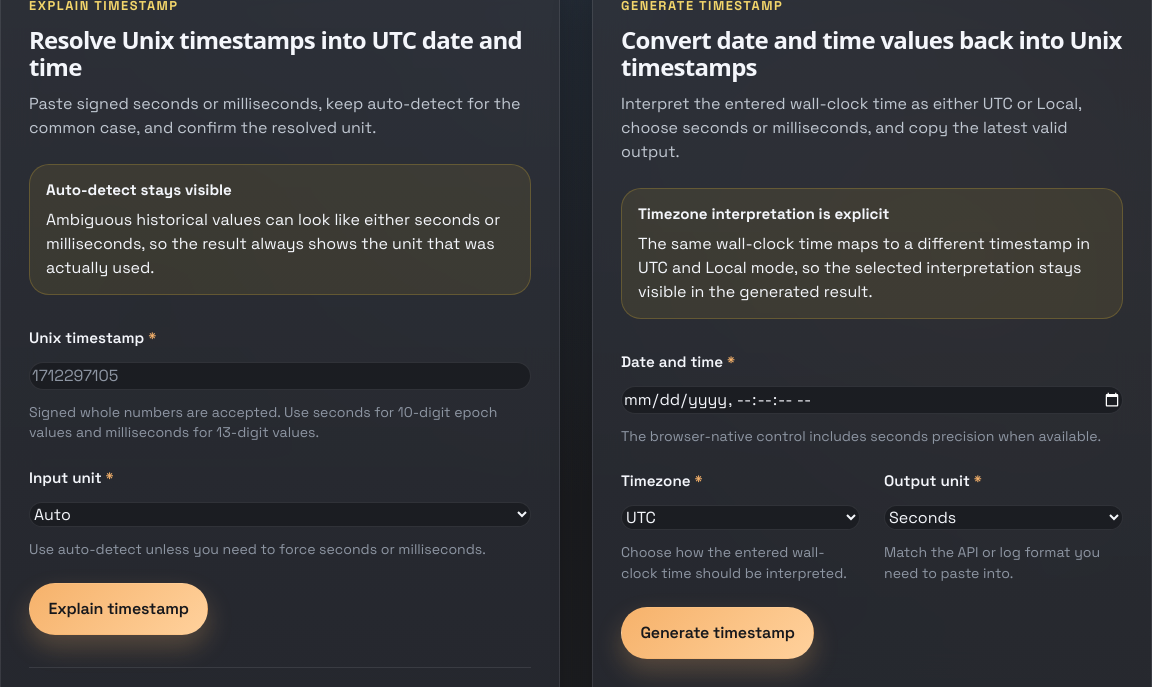
Test: Timestamp tool flow › generates a UTC seconds timestamp and copies the latest valid result
The image size is (1152, 687).
Type "2024-04-05T10:05" into the field labelled "Date and time *" at (872, 400), box [621,386,1123,414]
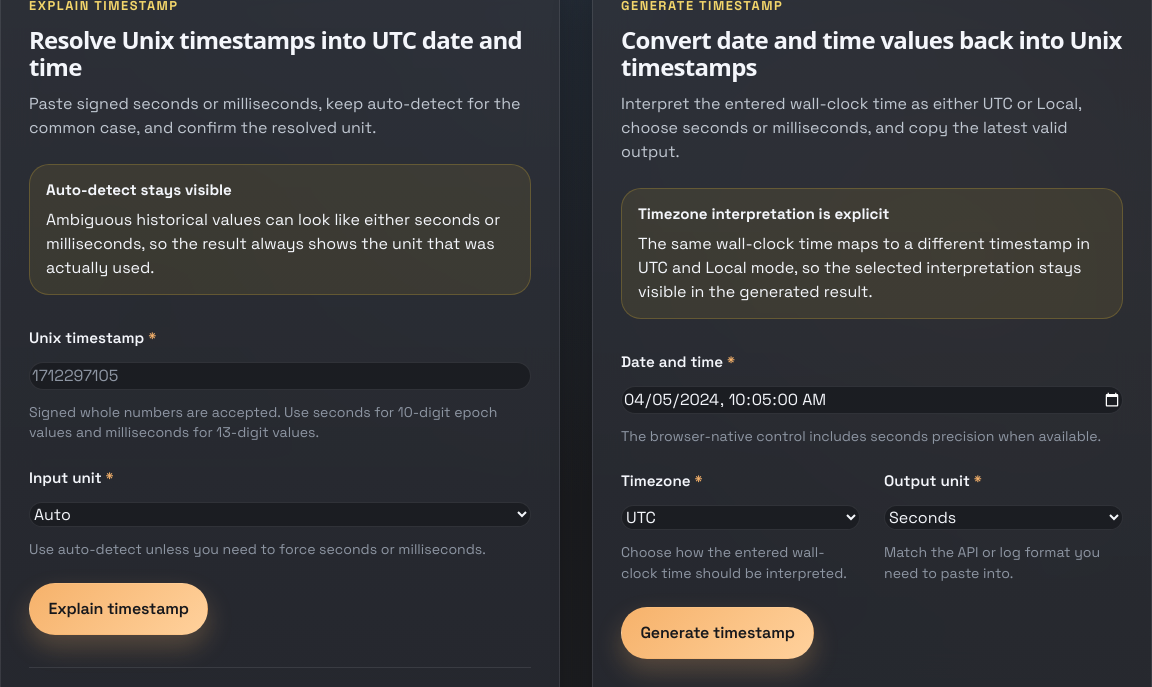
Select "UTC" in the dropdown labelled "Timezone *" at (740, 518), box [621,505,860,530]
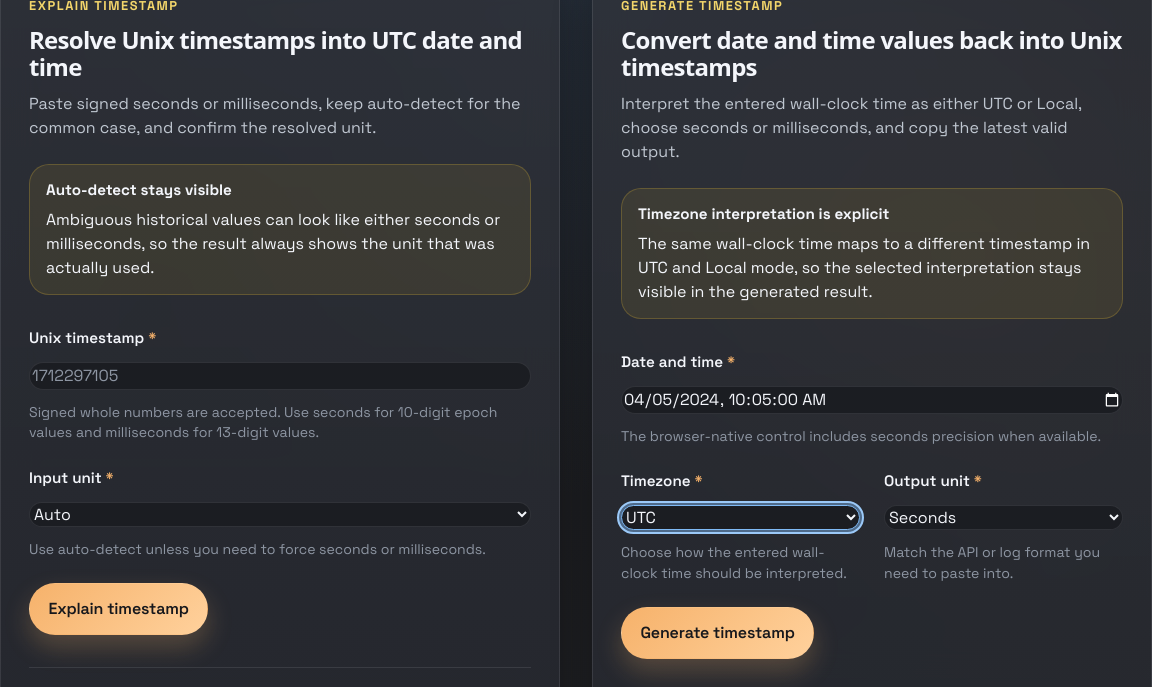
Select "Seconds" in the dropdown labelled "Output unit *" at (1004, 518), box [884,505,1123,530]
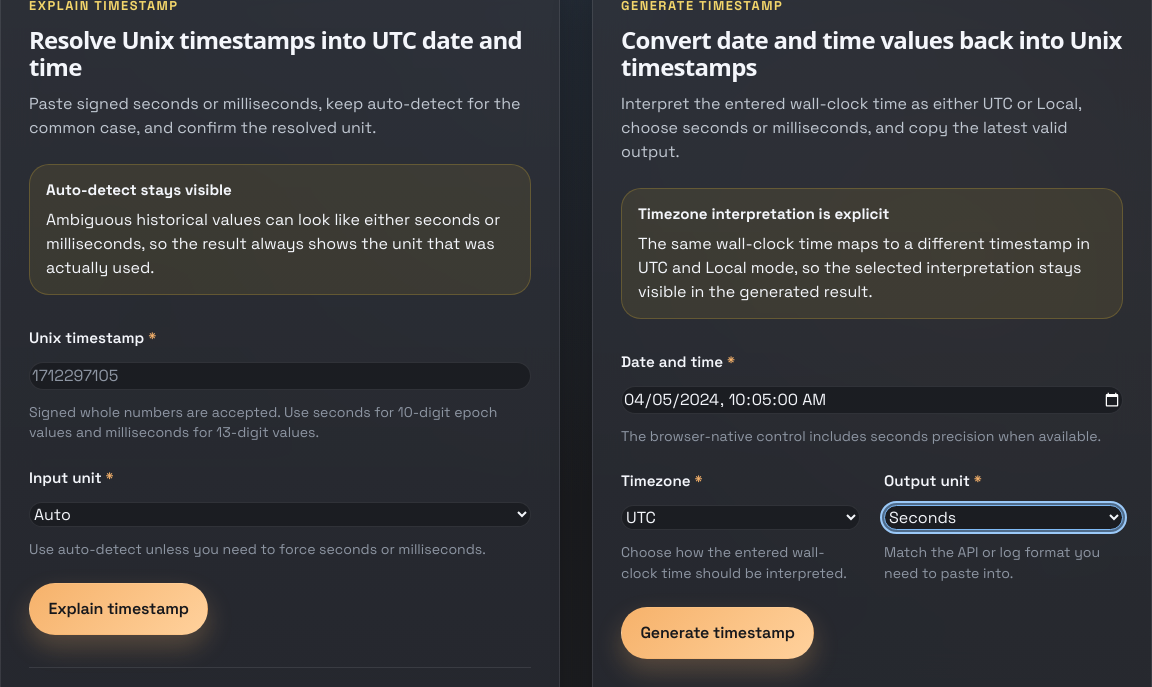
Click the button "Generate timestamp" at (718, 633), box [621,607,814,659]
(page scrolled)
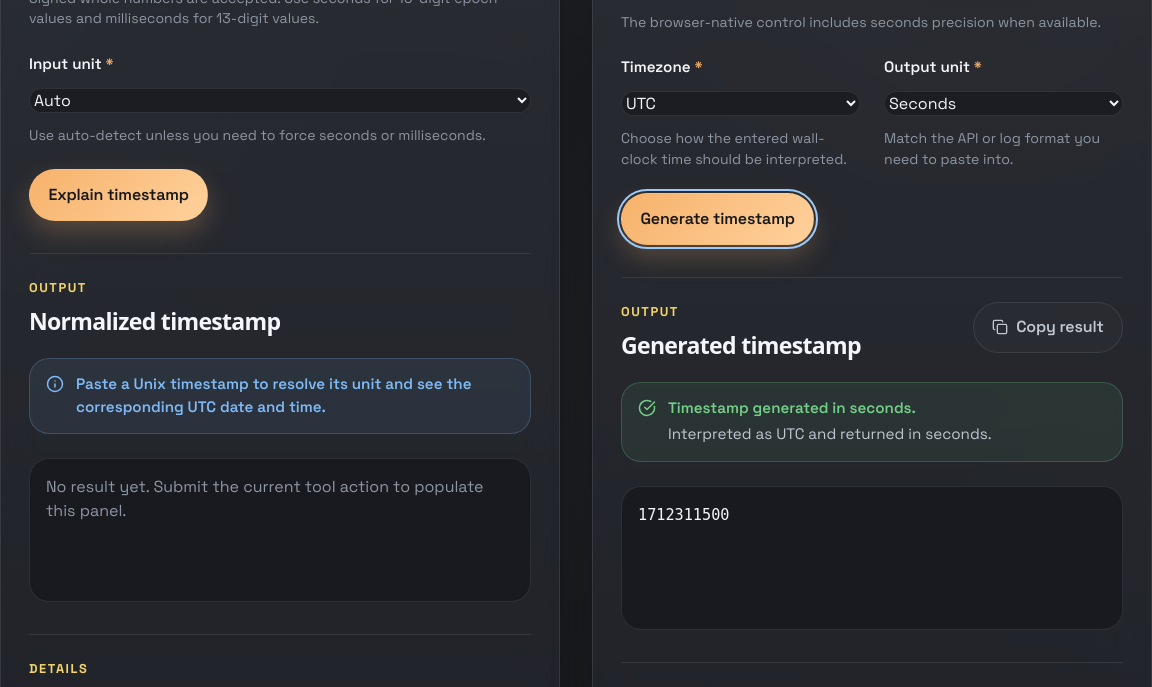
Click the button "Copy result" at (1048, 327), box [973,302,1123,353]
(page scrolled)
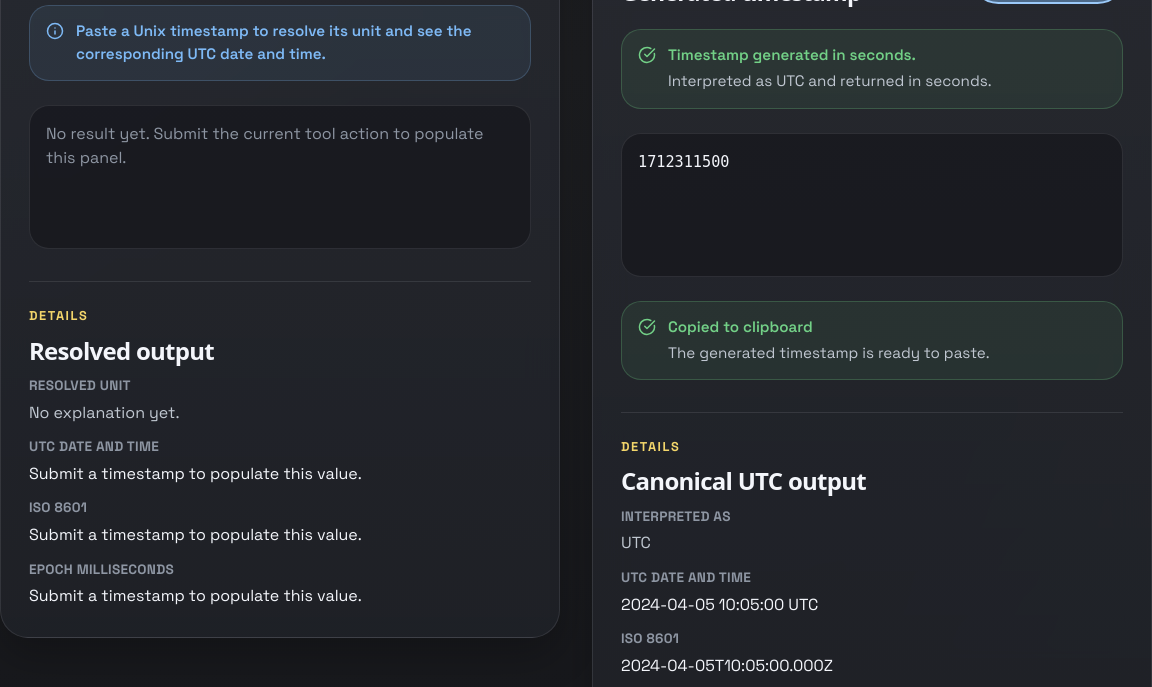
Expected: the text "Timestamp generated in seconds." is shown, [668,46,916,64]
Expected: the text "1712311500" is shown, [638,153,729,171]
Expected: the text "Copied to clipboard" is shown, [668,317,813,336]
